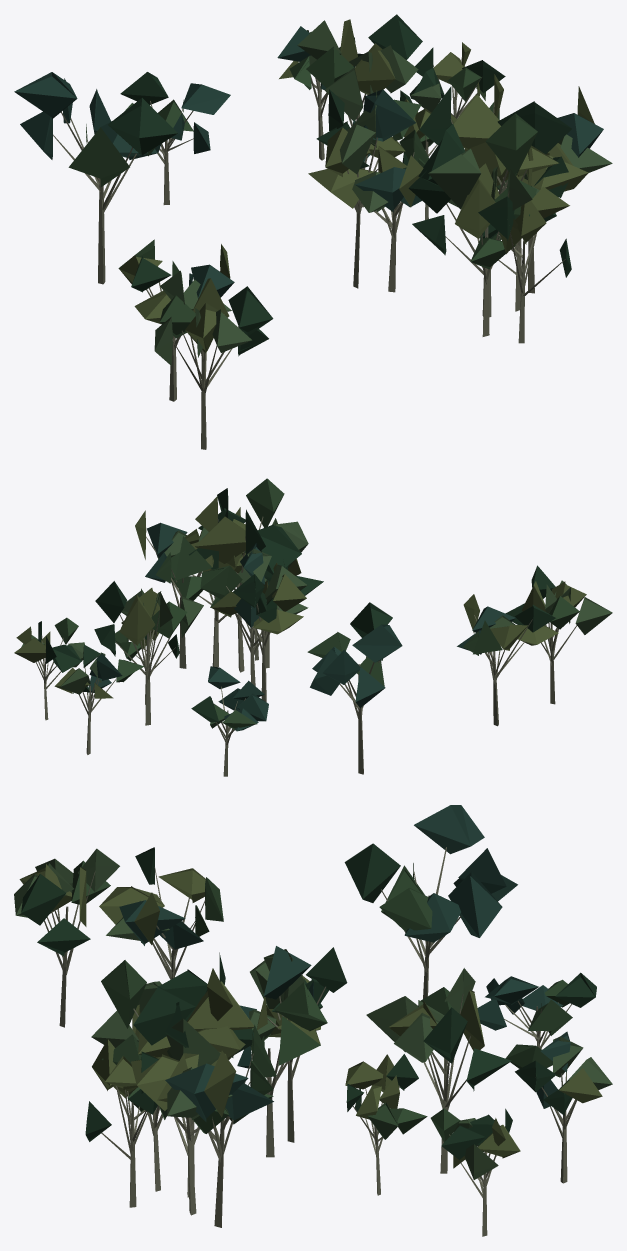
The model's file is forest_25_19.dae.
3 views of the same model, one above another, from view 1: azimuth 30°, elevation 25°; view 2: azimuth 150°, elevation 25°; view 3: azimuth 270°, elevation 25° (orthographic). The views are drawn at different scales.
Parts seen in each view (by area): view 1: Node; view 2: Node; view 3: Node.
Boxes of the visible parts, x1,y1,x2,y2 form: Node: [14, 14, 612, 449]; Node: [14, 478, 612, 776]; Node: [14, 805, 612, 1236].
Size of the model in its own units: 9.41 by 8.63 by 3.9.
